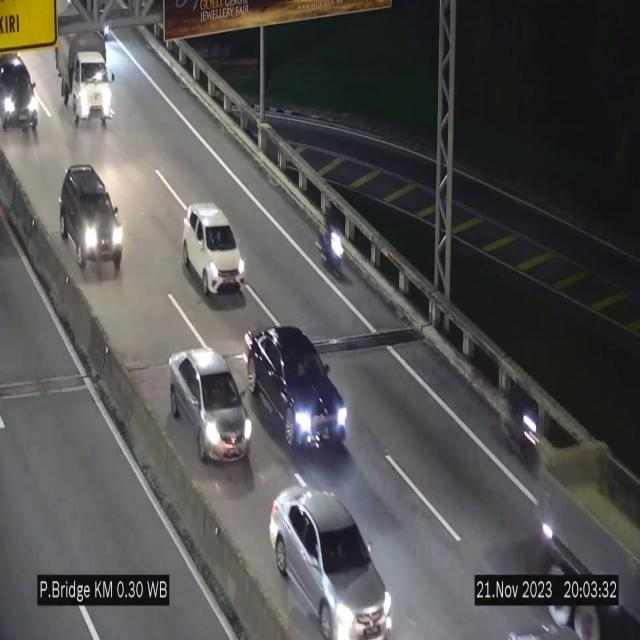Car: (270, 486, 392, 639), (243, 329, 349, 456), (170, 350, 252, 462), (61, 166, 125, 272), (183, 204, 246, 295), (0, 52, 42, 138)
Motorcycle: (318, 208, 351, 284), (514, 378, 539, 469)
Truck: (52, 29, 117, 129)
